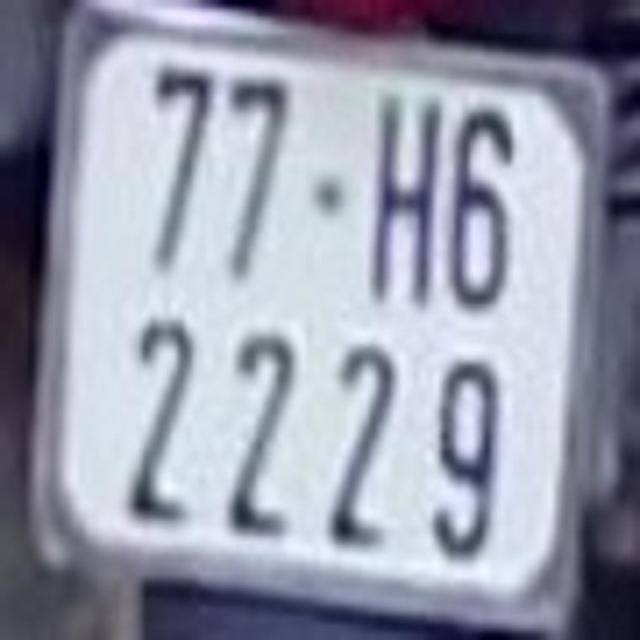2: (230, 331, 294, 536), (131, 316, 193, 524), (331, 344, 393, 549)
6: (450, 106, 514, 309)
7: (225, 74, 290, 276), (148, 65, 212, 269)
9: (432, 358, 497, 560)
H: (372, 92, 439, 308)
